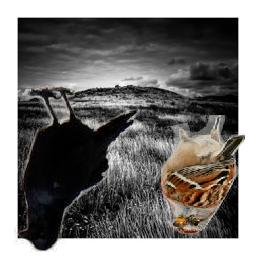Crow: (14, 86, 140, 253)
Sparrow: (159, 116, 245, 235)
